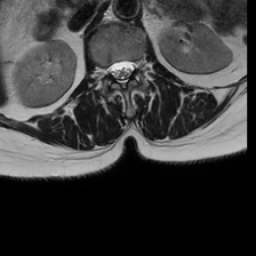CCS_normal: (117, 54, 125, 91)
LFS_normal: (133, 53, 141, 76)
LLS_normal: (125, 53, 133, 84)
RFS_normal: (102, 56, 110, 84)
RLS_normal: (110, 56, 117, 84)
